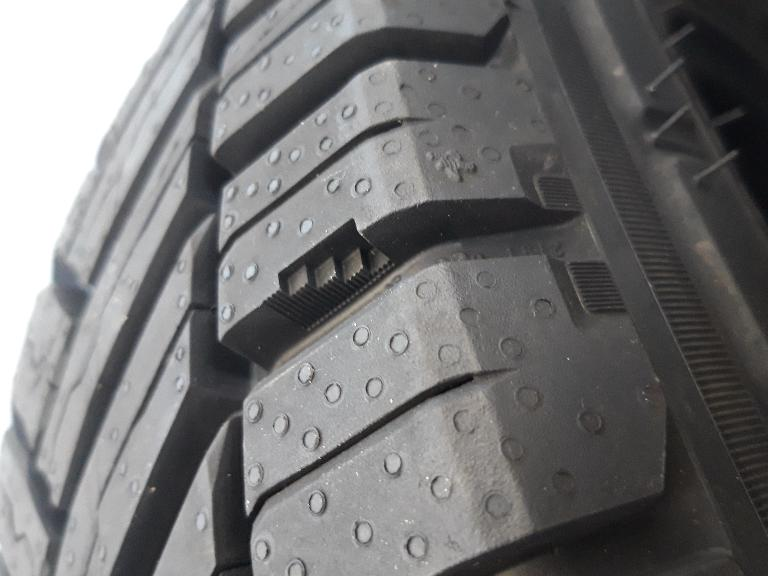temoin:100: (258, 213, 404, 336)
